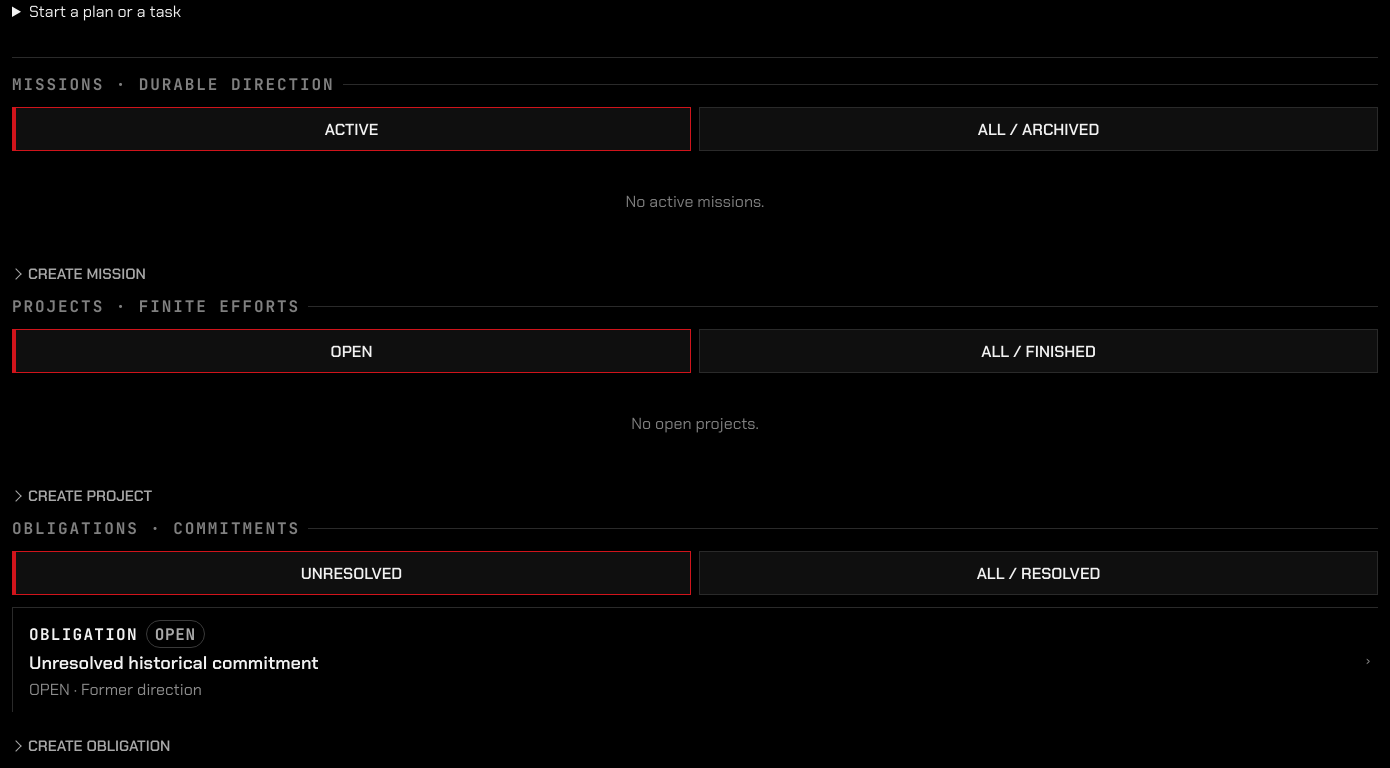
IntentScreen (real browser) › keeps an archived parent Mission visible as historical context on its unresolved Obligation
The image size is (1390, 768).
(page scrolled)
Click the button "OPEN Unresolved historical commitment": click(83, 634) [12,607,1378,712]
(page scrolled)
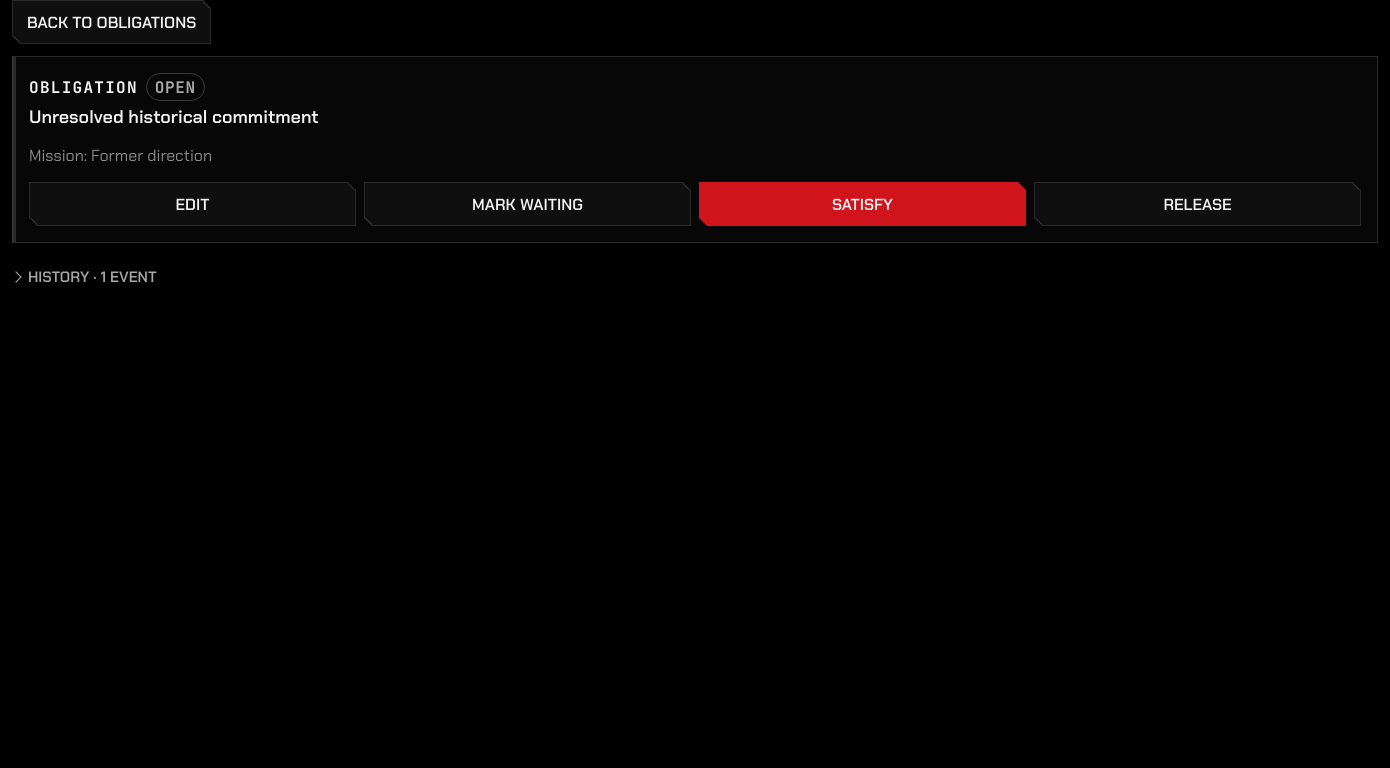
Check: the text "Mission: Former direction" is shown, box [29,145,212,166]
